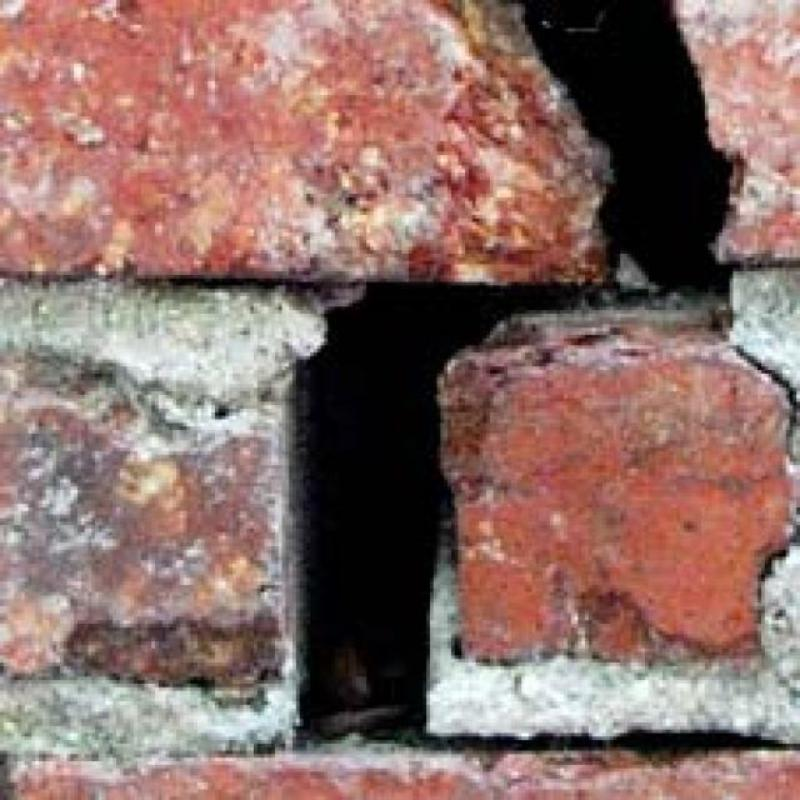pothole: (300, 283, 783, 756), (514, 1, 731, 294)
